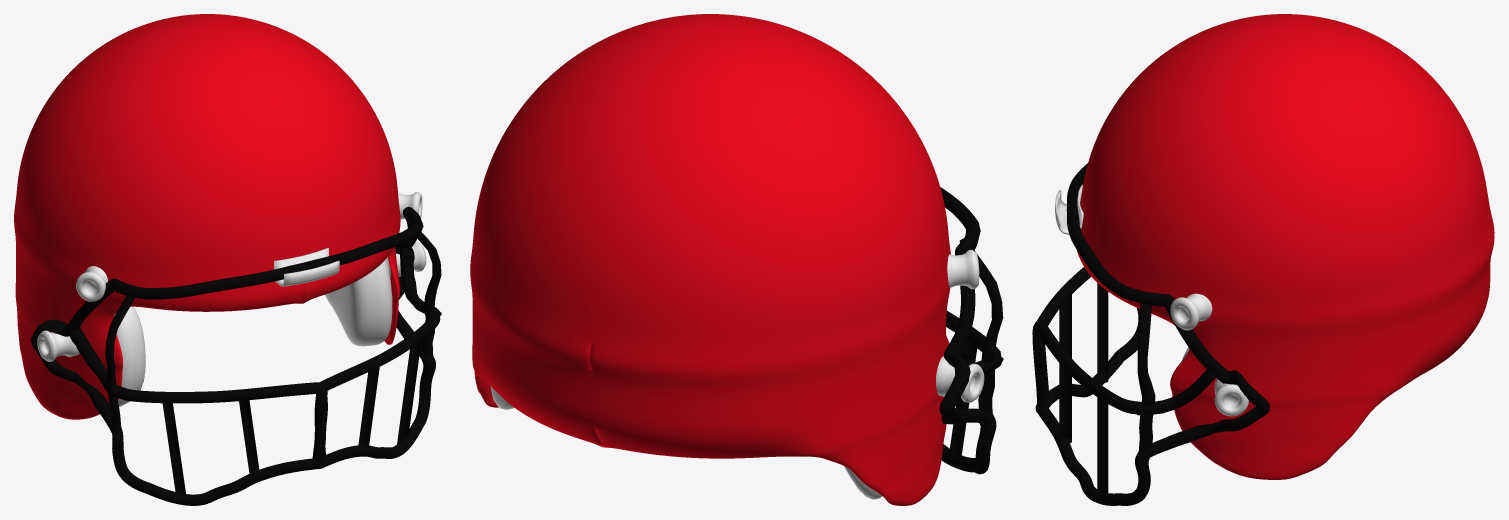
Rendered from Helmet.fbx.
3 views of the same model, side by side, from view 1: azimuth 30°, elevation 25°; view 2: azimuth 150°, elevation 25°; view 3: azimuth 270°, elevation 25° (orthographic). The views are drawn at different scales.
Visible parts, largest first — view 1: Sphere, BezierCurve, Cube, Cylinder, Plane; view 2: Sphere, BezierCurve, Cylinder, Cube; view 3: Sphere, BezierCurve, Cylinder, Plane.
Boxes of the visible parts, left/top/right/bottom form: Sphere: left=14, top=14, right=400, bottom=419; BezierCurve: left=31, top=207, right=441, bottom=505; Cube: left=114, top=259, right=392, bottom=406; Cylinder: left=37, top=192, right=426, bottom=361; Plane: left=274, top=247, right=339, bottom=286; Sphere: left=470, top=14, right=950, bottom=505; BezierCurve: left=939, top=187, right=1003, bottom=474; Cylinder: left=936, top=249, right=984, bottom=402; Cube: left=490, top=386, right=881, bottom=499; Sphere: left=1077, top=14, right=1494, bottom=479; BezierCurve: left=1032, top=163, right=1269, bottom=505; Cylinder: left=1170, top=293, right=1248, bottom=416; Plane: left=1055, top=184, right=1083, bottom=234.
Bounding box in the file's own units: 227 × 220 × 223.
